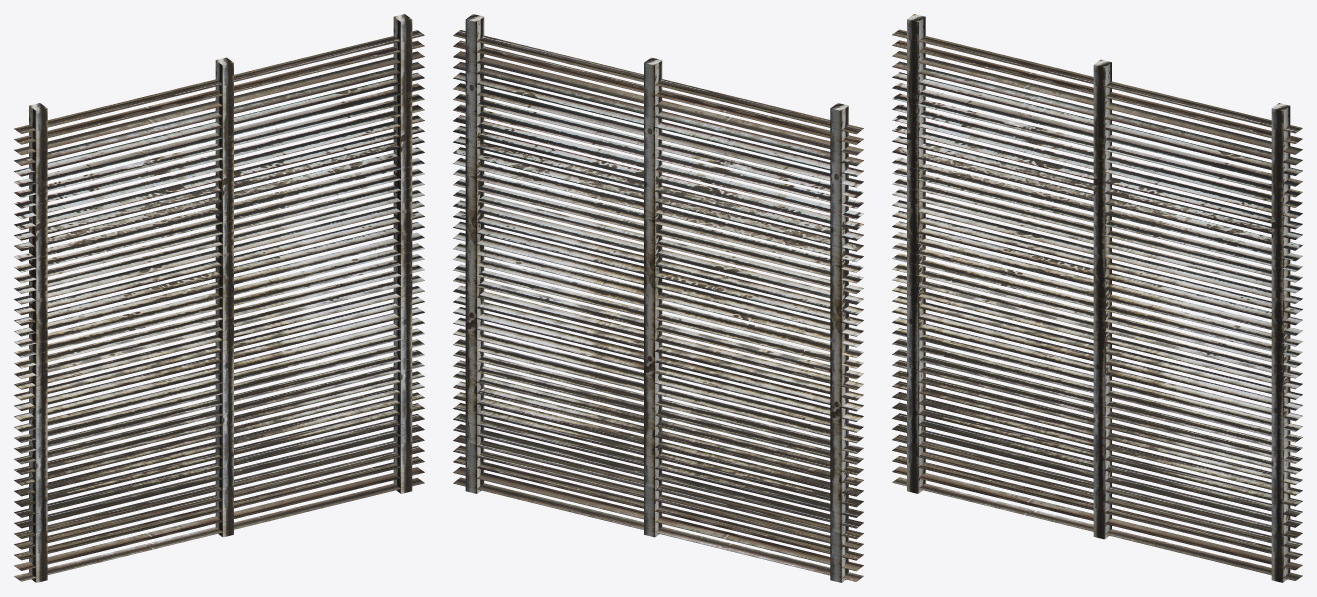
The model's file is jalousie_open.FBX.
The picture shows the model from 3 angles, left to right: view 1: azimuth 30°, elevation 25°; view 2: azimuth 150°, elevation 25°; view 3: azimuth 330°, elevation 25°; orthographic projection.
Parts seen in each view (by area): view 1: Box001; view 2: Box001; view 3: Box001.
Boxes of the visible parts, <box> form: Box001: <box>14,14,424,582</box>; Box001: <box>453,14,863,582</box>; Box001: <box>892,14,1302,582</box>.
Bounding box in the file's own units: 86.81 × 97.04 × 2.76.
